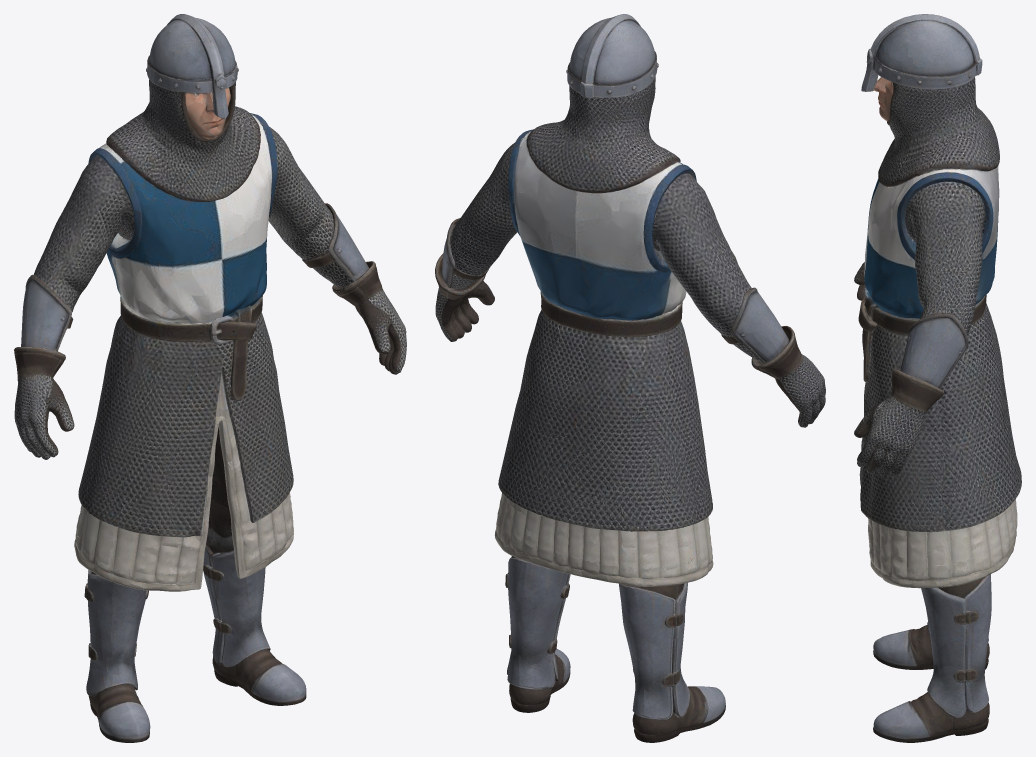
The model's file is chainmail.glb.
3 renders of one model, left to right at view 1: azimuth 30°, elevation 25°; view 2: azimuth 150°, elevation 25°; view 3: azimuth 270°, elevation 25°, orthographic.
Visible parts, largest first — view 1: Mesh_0; view 2: Mesh_0; view 3: Mesh_0.
Boxes of the visible parts, x1,y1,x2,y2 form: Mesh_0: [14, 14, 406, 742]; Mesh_0: [435, 14, 825, 742]; Mesh_0: [854, 14, 1021, 742].
Bounding box in the file's own units: 1.1 × 1.9 × 0.4237.
Materials: 1 (1 with a texture image).
